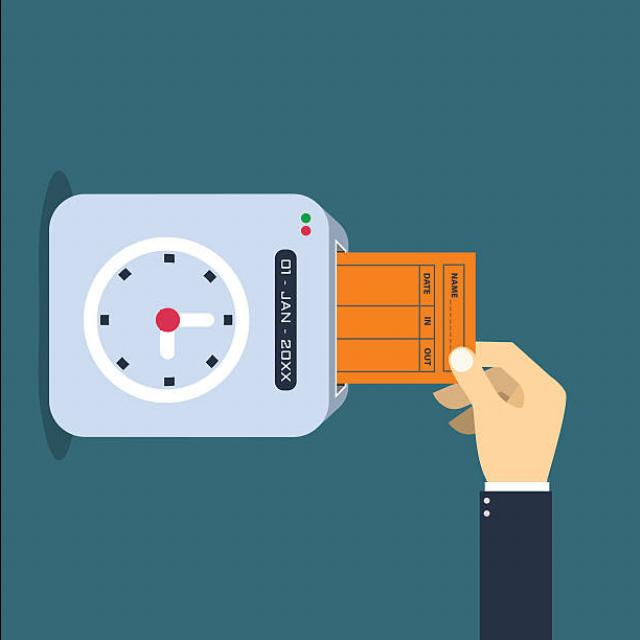clock: (14, 145, 364, 488)
